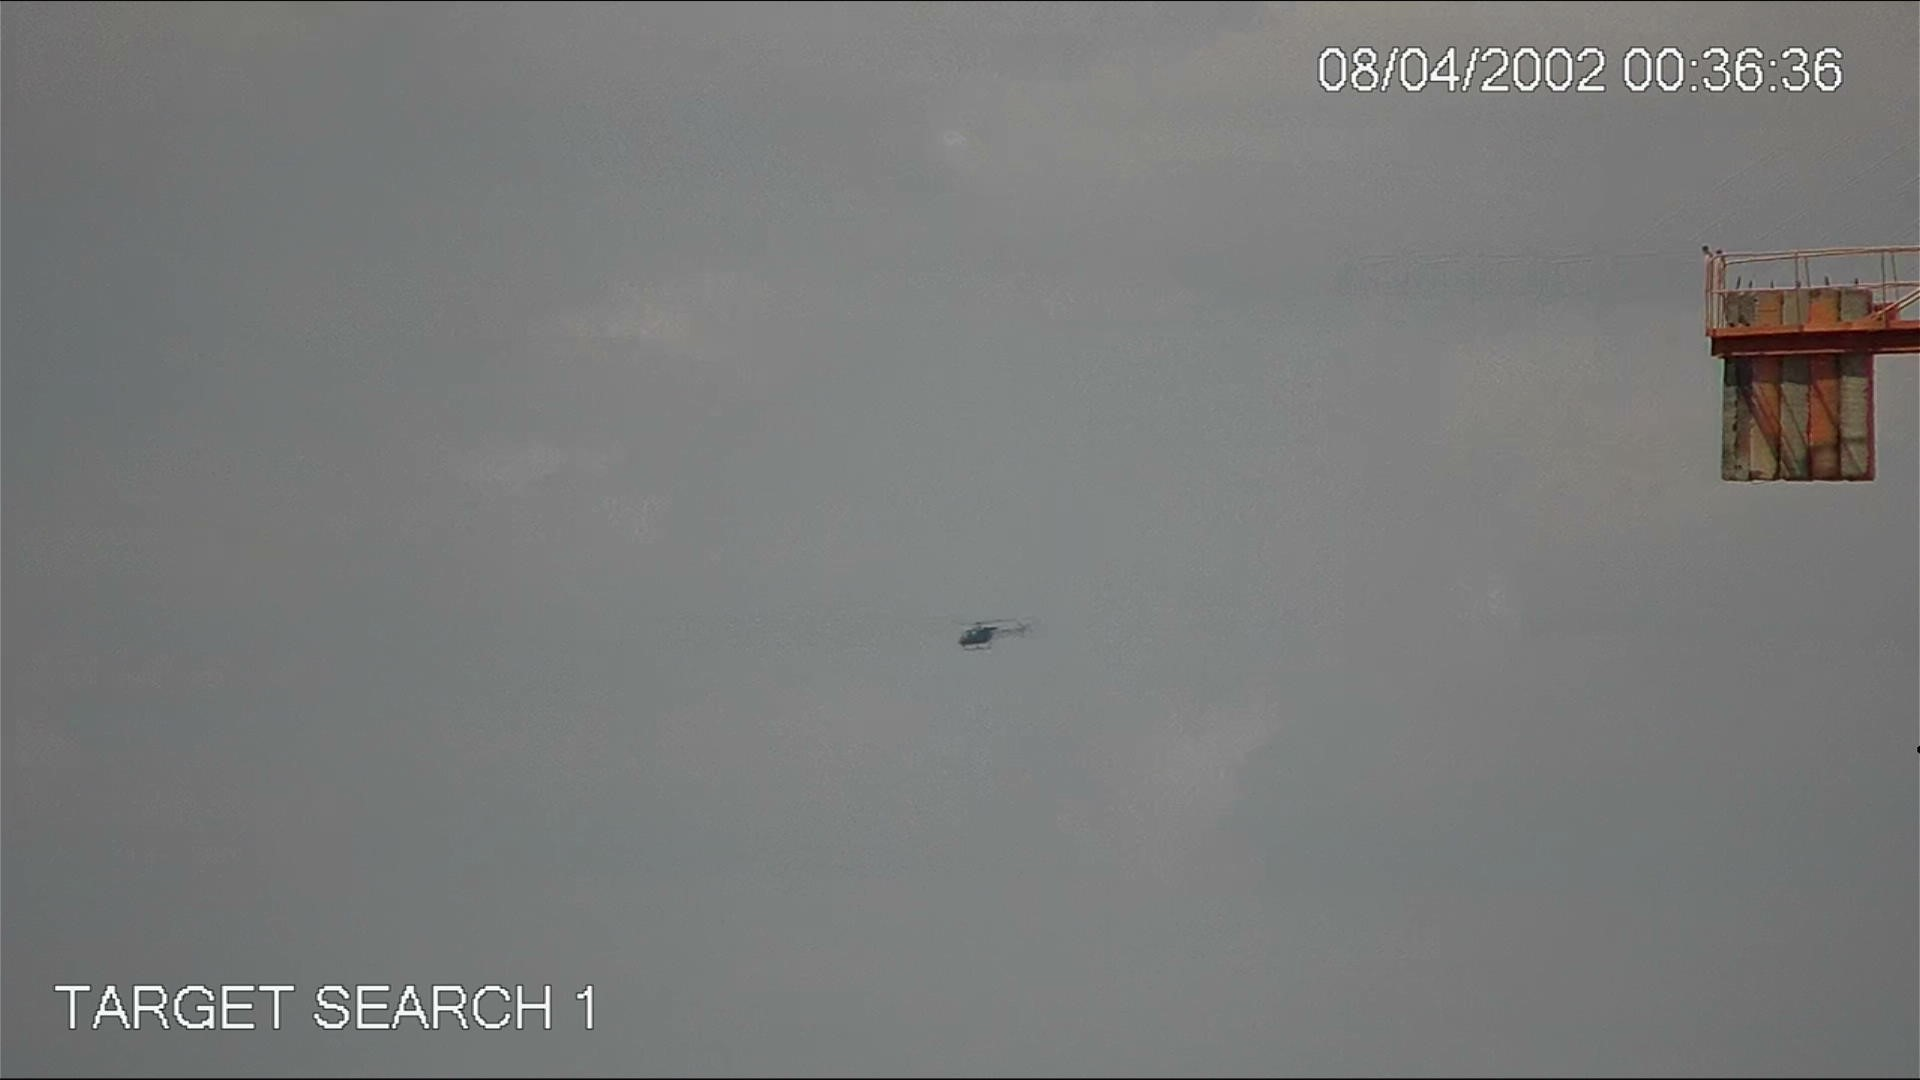SU_30: (955, 617, 1040, 653)
